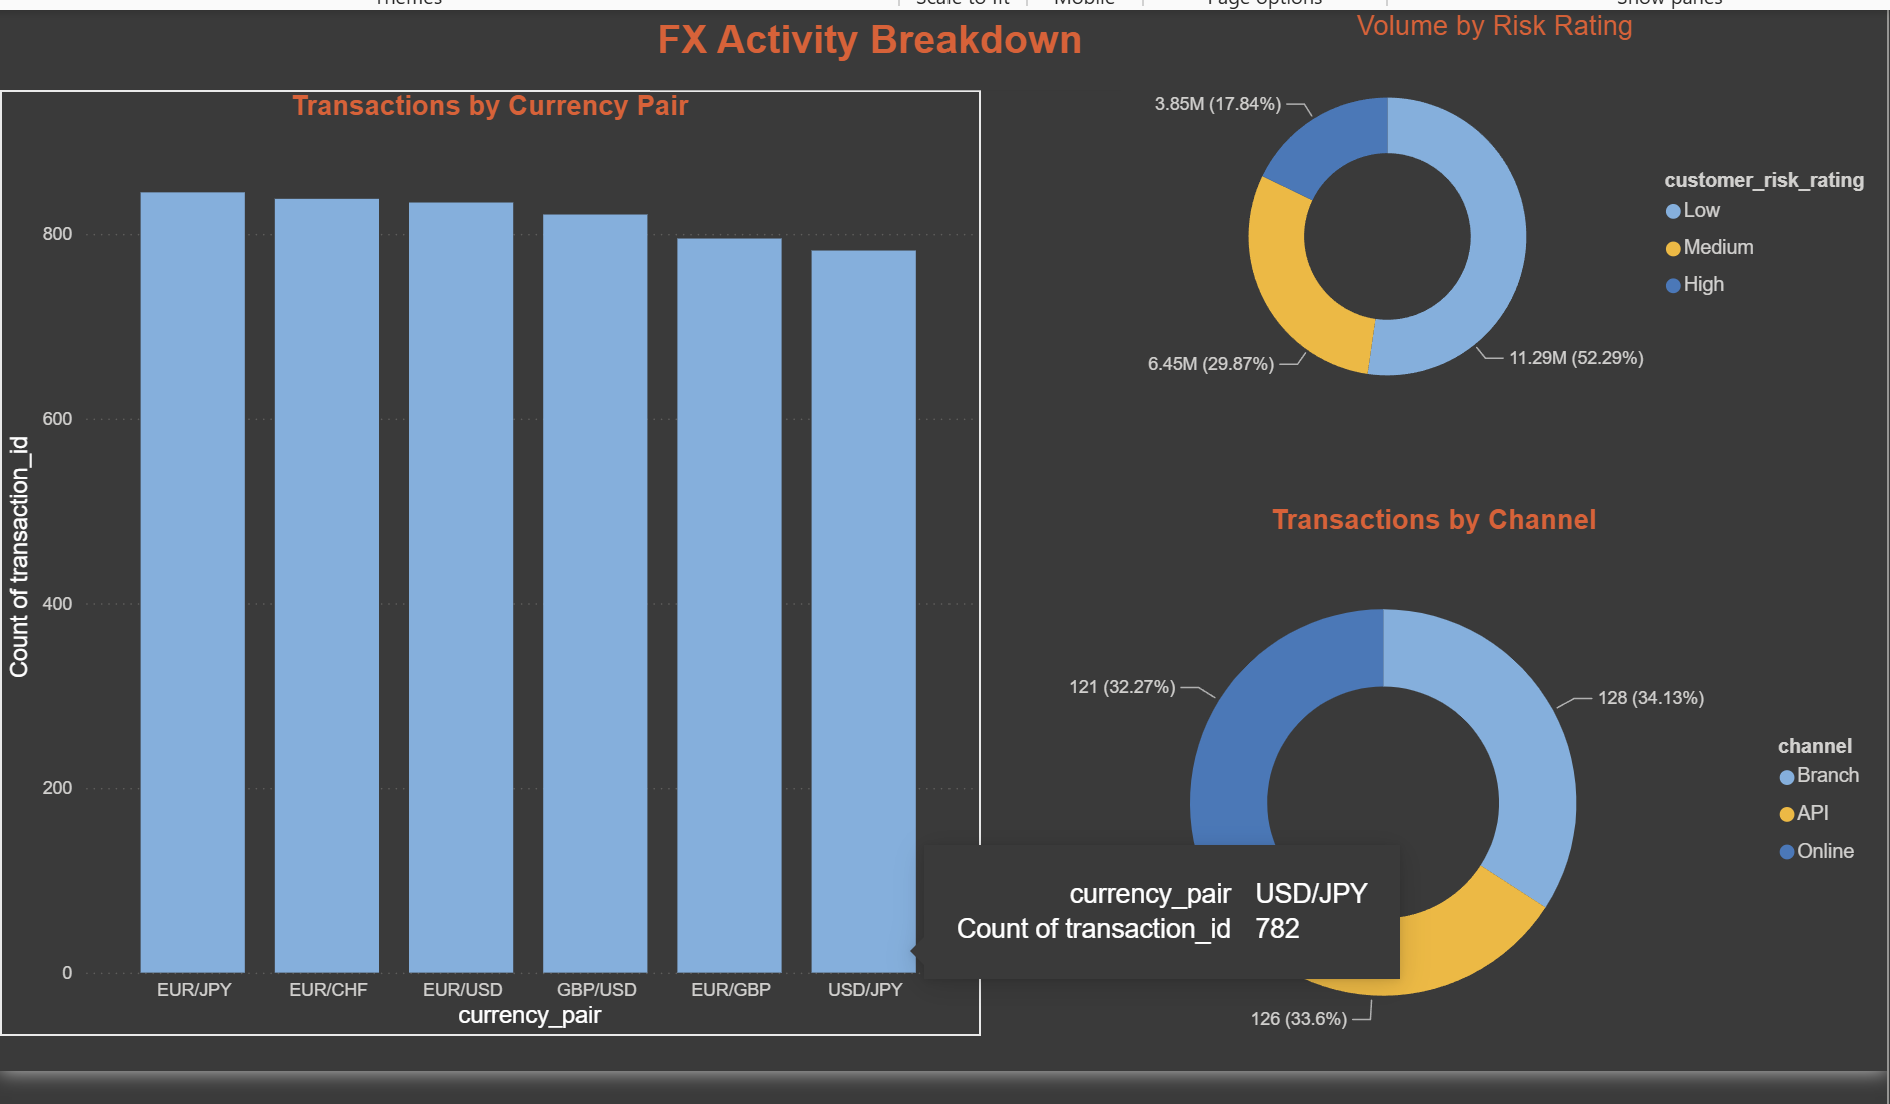

The page's visual inventory and layout, read from the dashboard file:
{"tool":"powerbi","page":{"name":"FX activity","canvas":[1280,720],"ordinal":2},"visuals":[{"type":"donutChart","title":"Transactions by Channel","fields":{"Category":["vw_flagged_transactions.channel"],"Y":["CountNonNull(vw_flagged_transactions.transaction_id)"]},"box":[665.1,335.3,614.9,384.1],"z":0},{"type":"donutChart","title":"Volume by Risk Rating","fields":{"Y":["Sum(vw_reporting_masked.amount_eur)"],"Category":["vw_reporting_masked.customer_risk_rating"]},"box":[747.9,0,532.1,286.4],"z":1000},{"type":"columnChart","title":"Transactions by Currency Pair","fields":{"Category":["vw_reporting_masked.currency_pair"],"Y":["CountNonNull(vw_reporting_masked.transaction_id)"]},"box":[0,54.3,665.1,642],"z":2000},{"type":"textbox","box":[441.1,0,319,54.3],"z":2001}]}

Visuals, with their boxes on the page's 1280x720 design canvas (x1, y1, x2, y2). These are canvas units, not pixel positions in the 1890x1104 screenshot, which may show the page scaled, cropped or inside an application window:
"Transactions by Channel" donutChart: locate(665, 335, 1280, 719)
"Volume by Risk Rating" donutChart: locate(748, 0, 1280, 286)
"Transactions by Currency Pair" columnChart: locate(0, 54, 665, 696)
textbox: locate(441, 0, 760, 54)
